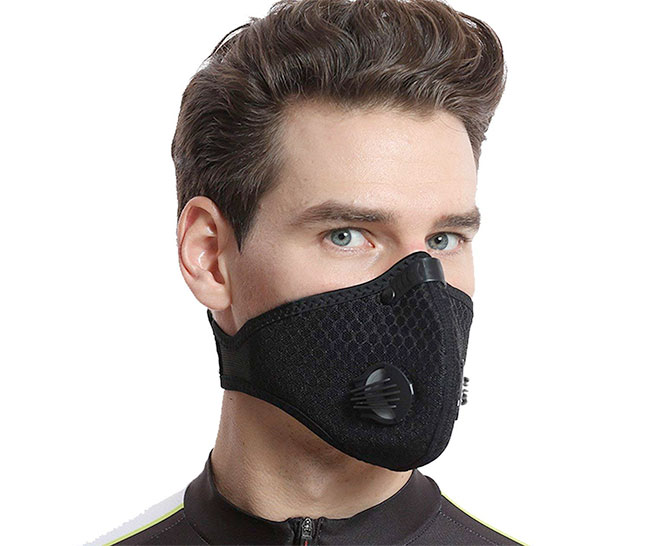Mask: (223, 93, 478, 468)
